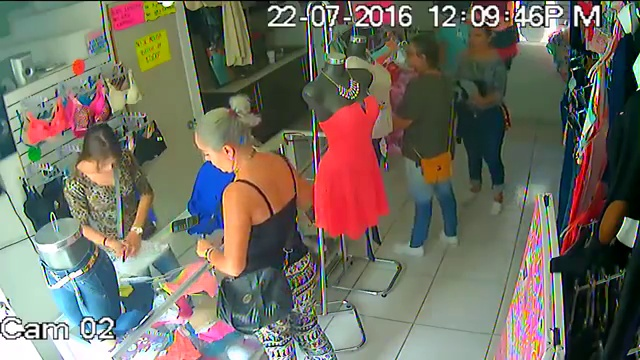face: (195, 122, 233, 170), (465, 24, 490, 48)
